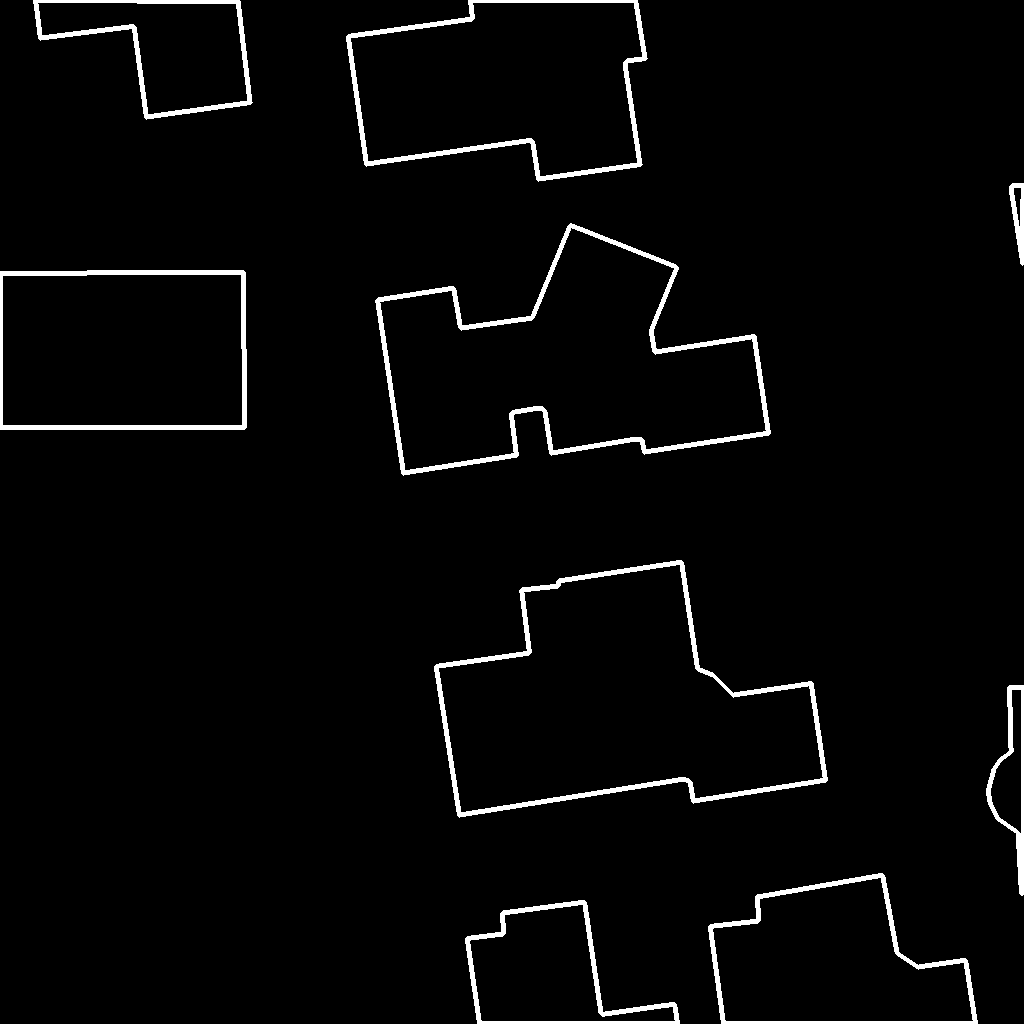building: (436, 562, 827, 816), (377, 225, 770, 474), (348, 0, 646, 180), (710, 875, 977, 1024), (0, 272, 246, 428), (467, 902, 679, 1024), (35, 0, 251, 118), (988, 687, 1024, 895), (1011, 185, 1024, 268)
